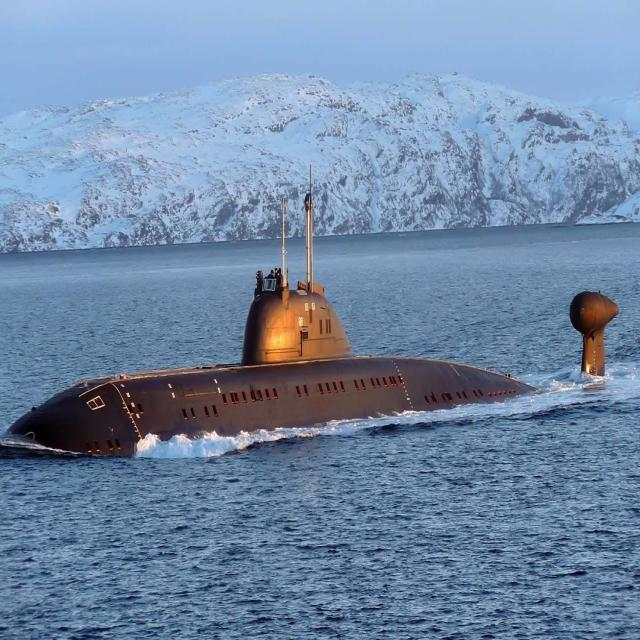submarine: (1, 157, 626, 474)
